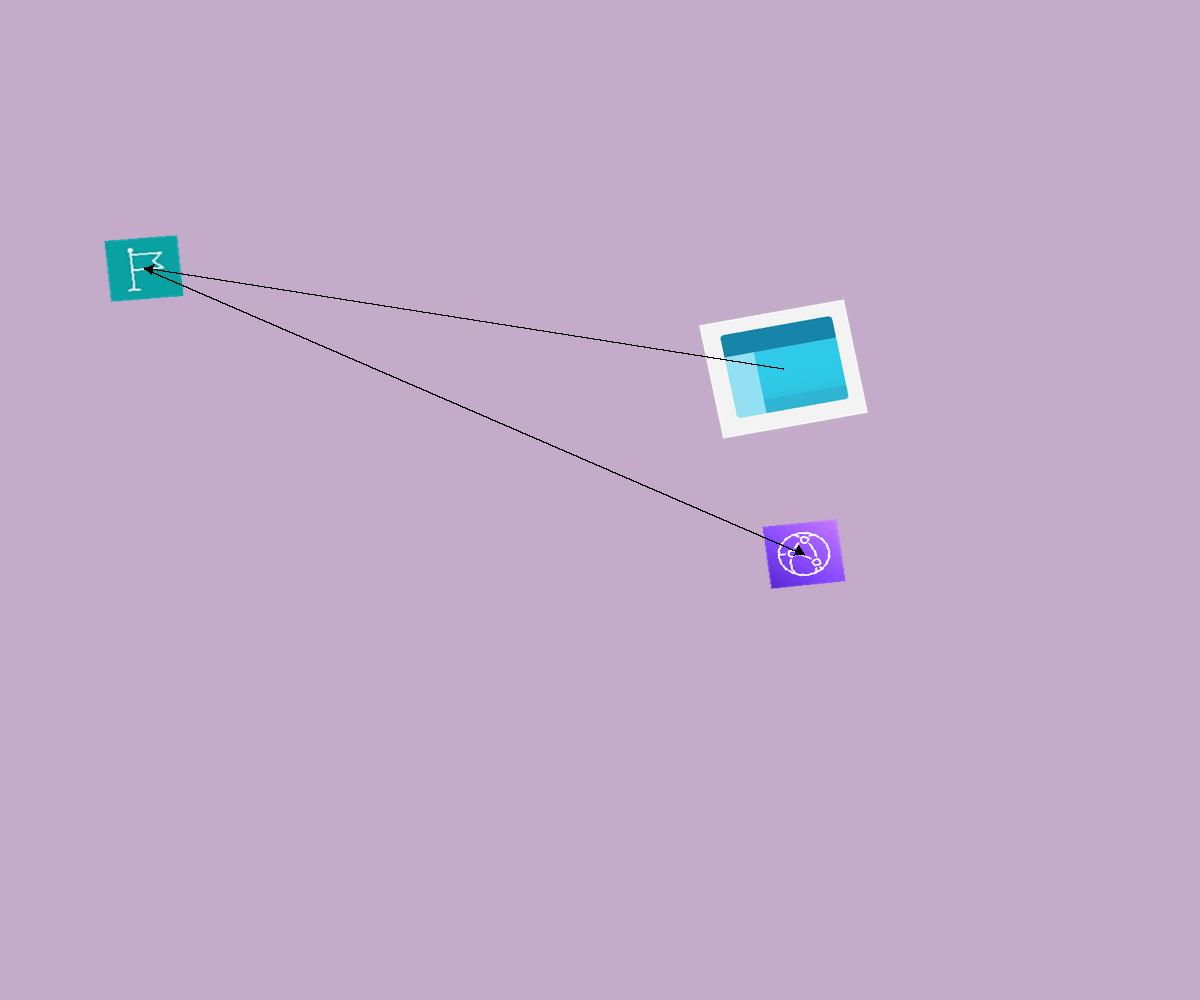AWS-CloudFront: (762, 519, 846, 589)
AWS-Region: (104, 235, 184, 302)
Azure_management-portal: (699, 299, 868, 439)
